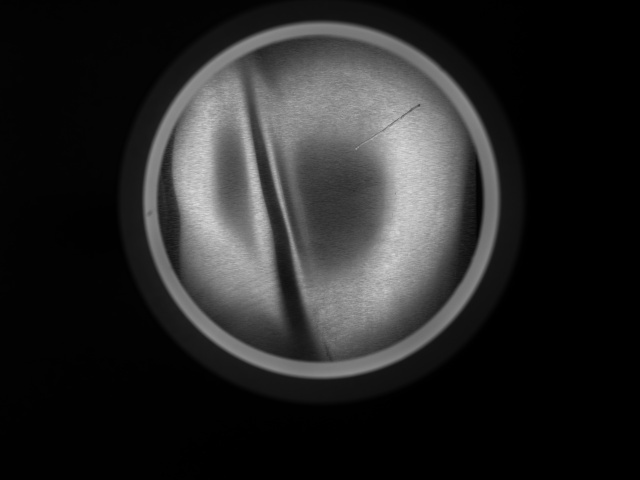ca_shang: (353, 101, 425, 154)
zhe_zhou: (203, 65, 439, 333)
